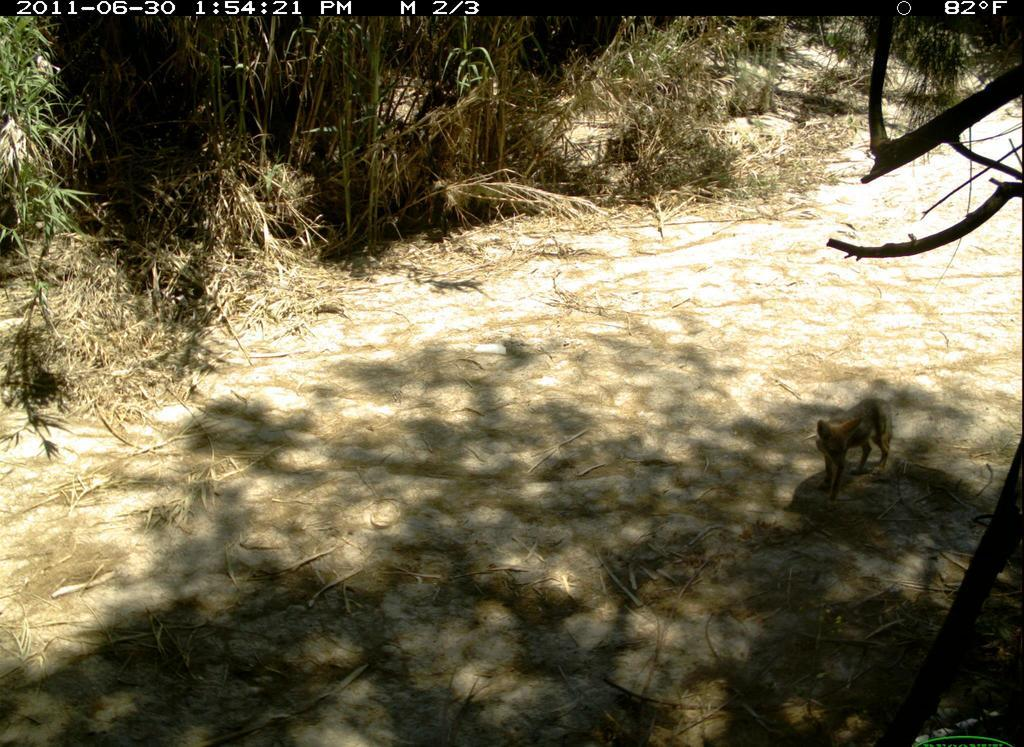coyote: (811, 395, 898, 502)
